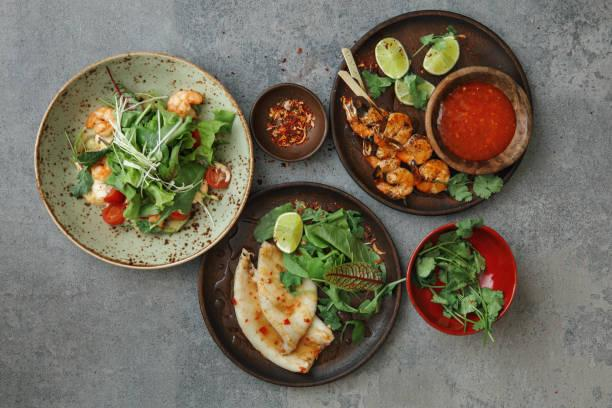Braised Crucian Carp: (34, 51, 247, 270), (198, 182, 400, 386), (329, 9, 525, 217)
